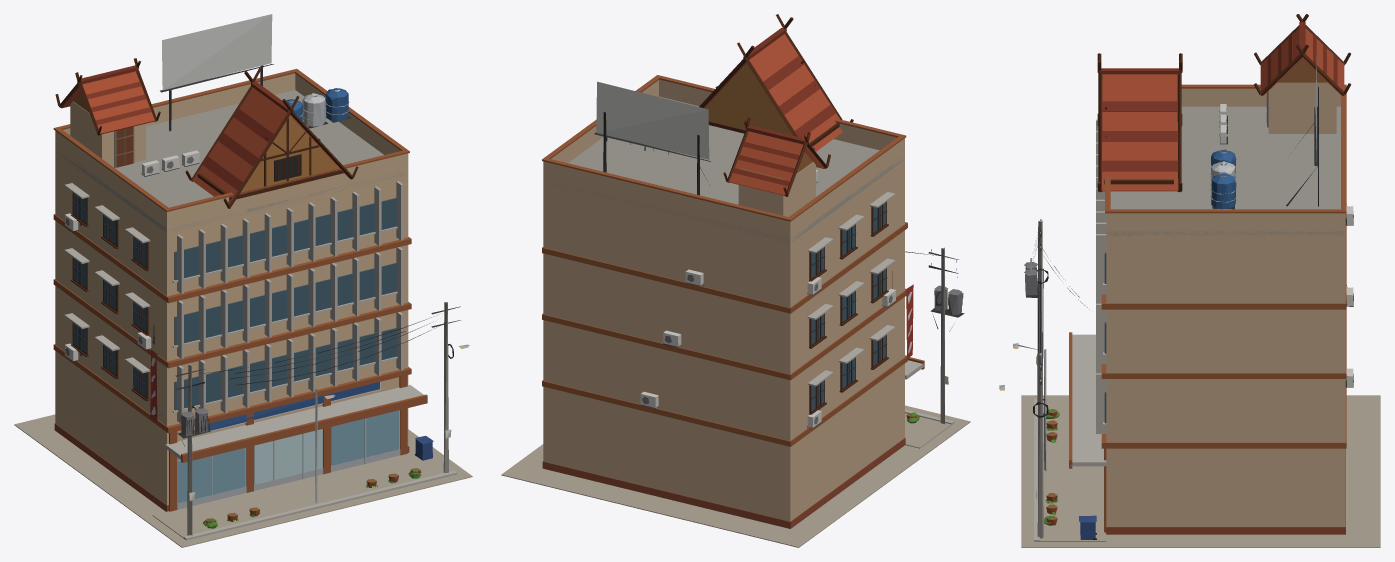
The model's file is shop_4.glb.
3 renders of one model, left to right at view 1: azimuth 30°, elevation 25°; view 2: azimuth 150°, elevation 25°; view 3: azimuth 270°, elevation 25°, orthographic. The views are drawn at different scales.
Visible parts, largest first — view 1: body, windows; view 2: body, windows; view 3: body.
Part boxes in pixels (left/top/right/bottom): body: left=14, top=14, right=472, bottom=547; windows: left=73, top=154, right=468, bottom=410; body: left=501, top=14, right=970, bottom=547; windows: left=811, top=202, right=886, bottom=411; body: left=999, top=14, right=1380, bottom=547.
Size of the model in its own units: 15.9 by 20.68 by 16.88.
